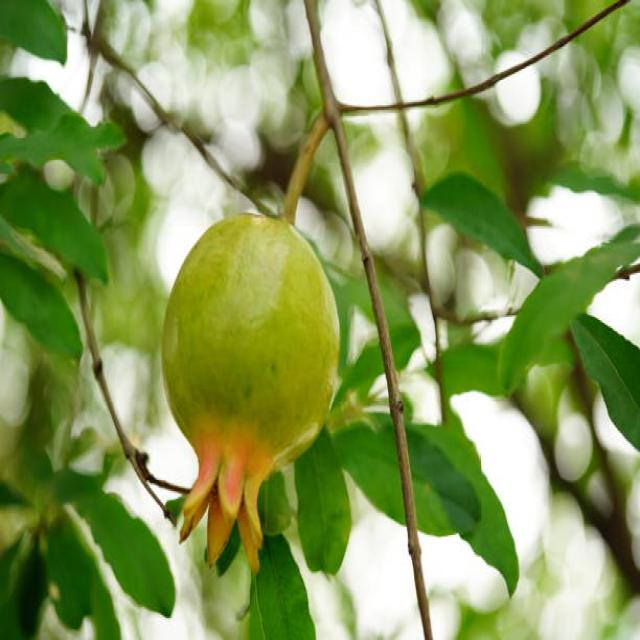Unripe: (162, 207, 341, 576)
